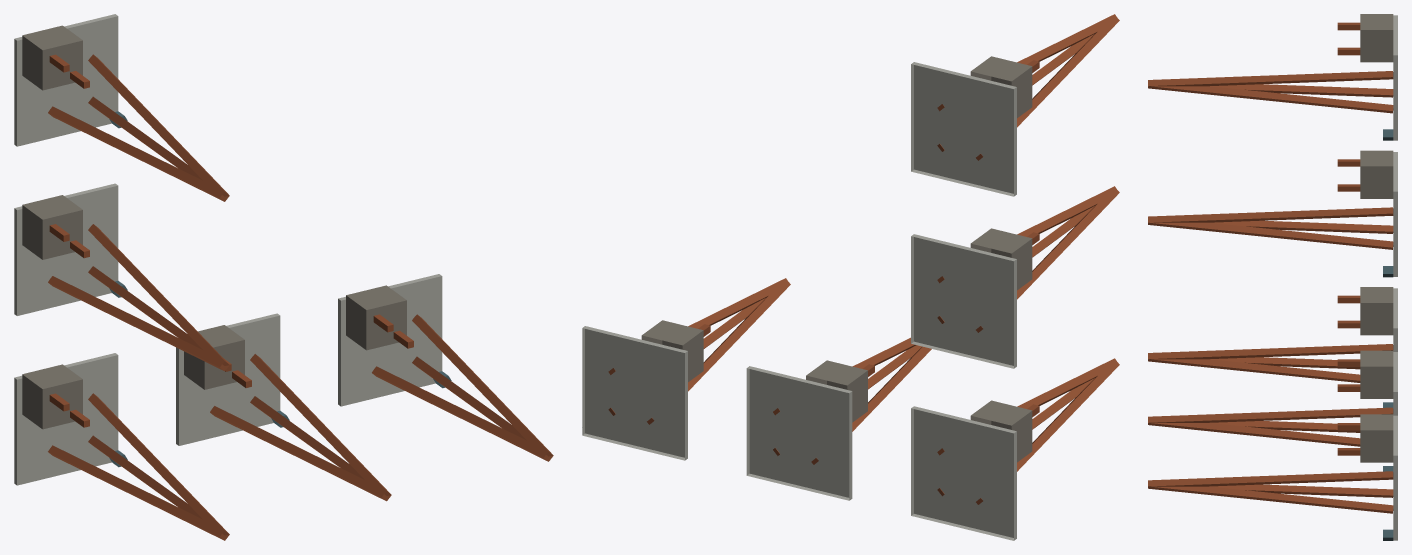
File: construction_2.glb
The picture shows the model from 3 angles, left to right: view 1: azimuth 30°, elevation 25°; view 2: azimuth 150°, elevation 25°; view 3: azimuth 270°, elevation 25°; orthographic projection. The views are drawn at different scales.
Visible parts, largest first — view 1: t00_g29.002, t01_g29.002, t02_g29.002, t20_g29.002, t10_g29.002; view 2: t00_g29.002, t02_g29.002, t01_g29.002, t20_g29.002, t10_g29.002; view 3: t02_g29.002, t01_g29.002, t20_g29.002, t00_g29.002, t10_g29.002.
Boxes of the visible parts, left/top/right/bottom form: t00_g29.002: left=14, top=353, right=229, bottom=540; t01_g29.002: left=14, top=183, right=229, bottom=371; t02_g29.002: left=14, top=14, right=229, bottom=201; t20_g29.002: left=338, top=274, right=553, bottom=461; t10_g29.002: left=176, top=313, right=391, bottom=501; t00_g29.002: left=911, top=358, right=1119, bottom=540; t02_g29.002: left=911, top=14, right=1119, bottom=196; t01_g29.002: left=911, top=186, right=1119, bottom=368; t20_g29.002: left=582, top=278, right=790, bottom=460; t10_g29.002: left=746, top=337, right=931, bottom=500; t02_g29.002: left=1148, top=14, right=1397, bottom=140; t01_g29.002: left=1148, top=150, right=1397, bottom=277; t20_g29.002: left=1148, top=414, right=1397, bottom=540; t00_g29.002: left=1148, top=287, right=1397, bottom=408; t10_g29.002: left=1148, top=350, right=1397, bottom=471.
Size of the model in its own units: 42.3 by 42.42 by 26.54.
